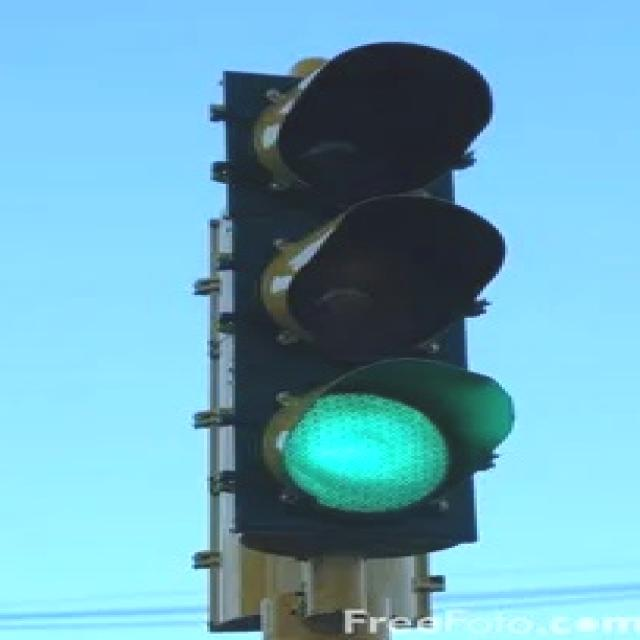yesil: (231, 46, 515, 539)
